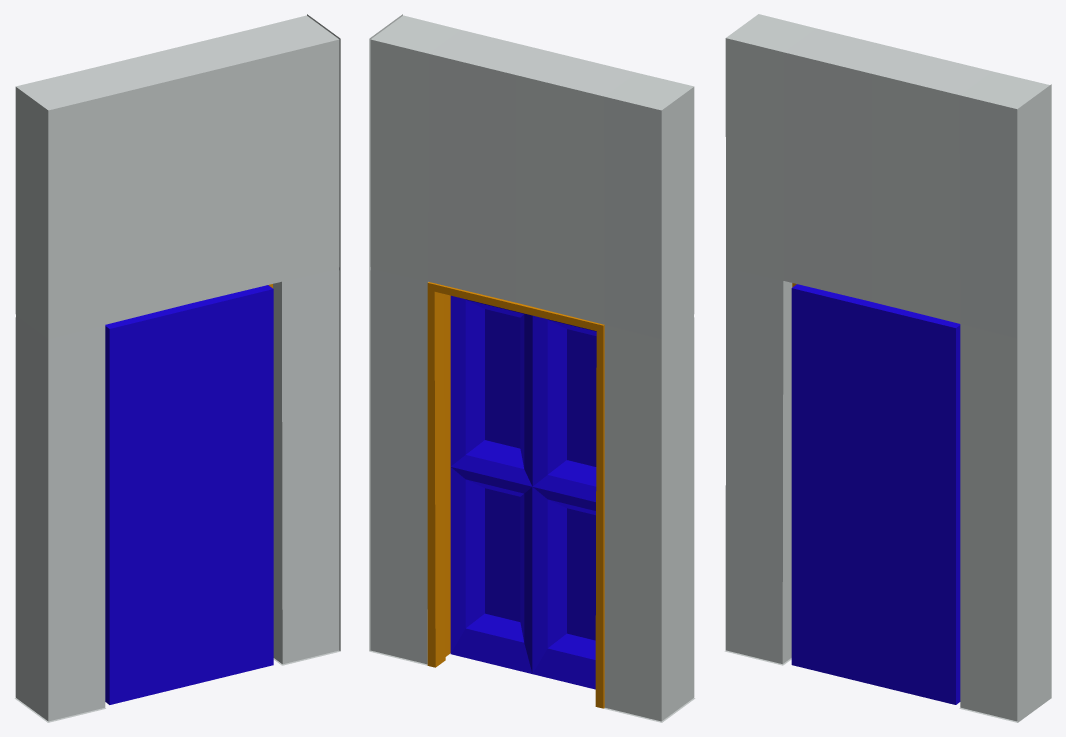
File: Door Wall 01.fbx
The picture shows the model from 3 angles, left to right: view 1: azimuth 30°, elevation 25°; view 2: azimuth 150°, elevation 25°; view 3: azimuth 330°, elevation 25°; orthographic projection.
Visible parts, largest first — view 1: Door Wall base.003, Door Design 02.003; view 2: Door Wall base.003, Door Design 02.003, Door Wall base Interor.003; view 3: Door Wall base.003, Door Design 02.003.
Boxes of the visible parts, x1,y1,x2,y2 form: Door Wall base.003: [14, 14, 340, 722]; Door Design 02.003: [105, 285, 273, 704]; Door Wall base.003: [369, 14, 695, 722]; Door Design 02.003: [450, 295, 596, 689]; Door Wall base Interor.003: [427, 282, 604, 708]; Door Wall base.003: [724, 14, 1051, 722]; Door Design 02.003: [791, 284, 960, 704].
Size of the model in its own units: 200 by 400 by 40.
